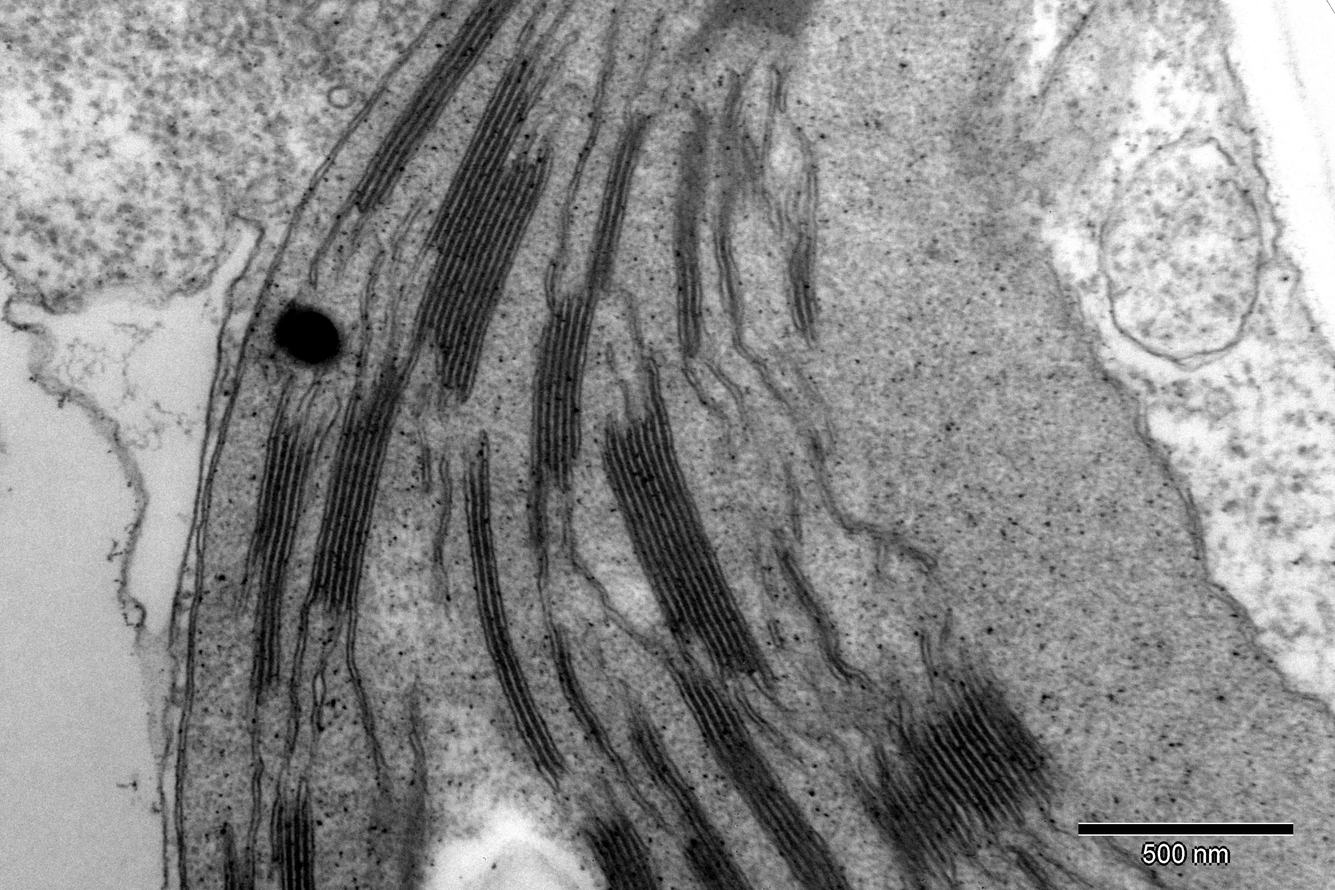granum: (845, 647, 1057, 889), (407, 50, 555, 396), (593, 404, 771, 683), (664, 660, 858, 890), (343, 0, 529, 218), (460, 456, 574, 791), (302, 349, 419, 618), (622, 712, 760, 889), (241, 417, 318, 696), (579, 110, 656, 296), (527, 293, 597, 473), (672, 0, 830, 71), (666, 127, 711, 321), (578, 810, 667, 890), (779, 229, 827, 332), (267, 799, 318, 890), (218, 872, 260, 890)
